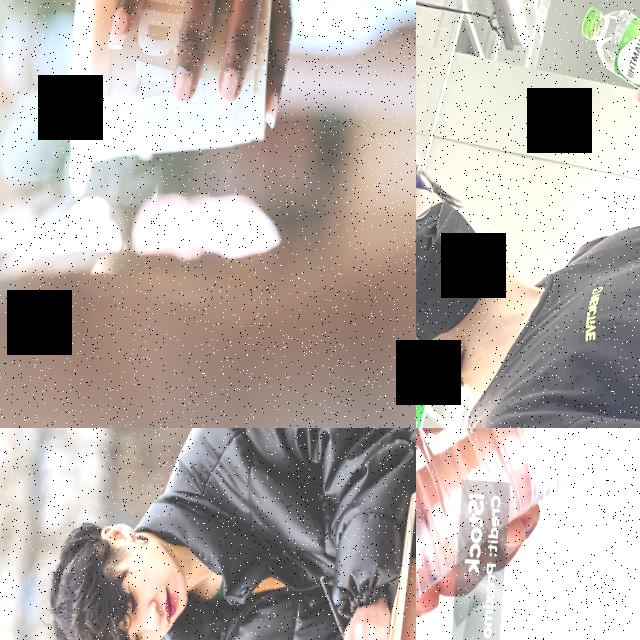bottle: (416, 428, 624, 640), (572, 1, 640, 143)
cup: (60, 0, 276, 187)
